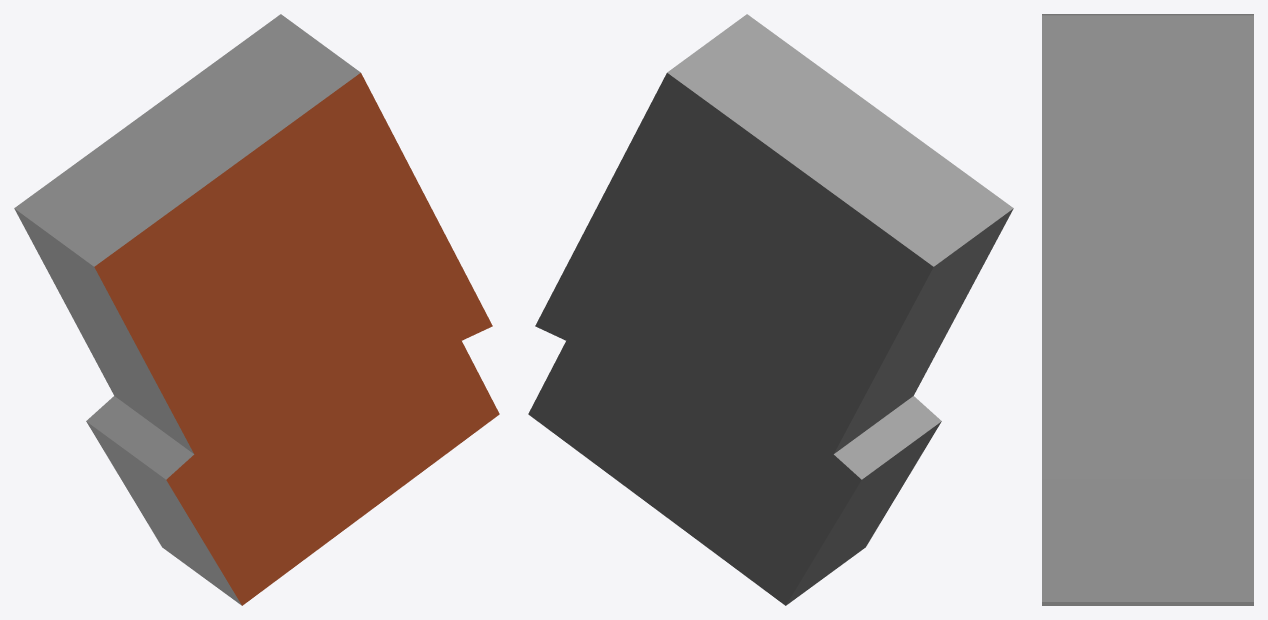
The model's file is construction_0972_assumed_A_Casa_h6m.obj.
3 views of the same model, side by side, from view 1: azimuth 30°, elevation 25°; view 2: azimuth 150°, elevation 25°; view 3: azimuth 270°, elevation 25° (orthographic). The views are drawn at different scales.
Visible parts, largest first — view 1: construction_0972_assumed_A_Casa; view 2: construction_0972_assumed_A_Casa; view 3: construction_0972_assumed_A_Casa.
Boxes of the visible parts, left/top/right/bottom form: construction_0972_assumed_A_Casa: left=14, top=14, right=499, bottom=605; construction_0972_assumed_A_Casa: left=528, top=14, right=1013, bottom=605; construction_0972_assumed_A_Casa: left=1042, top=14, right=1253, bottom=605.
Size of the model in its own units: 17.55 by 20.85 by 6.
